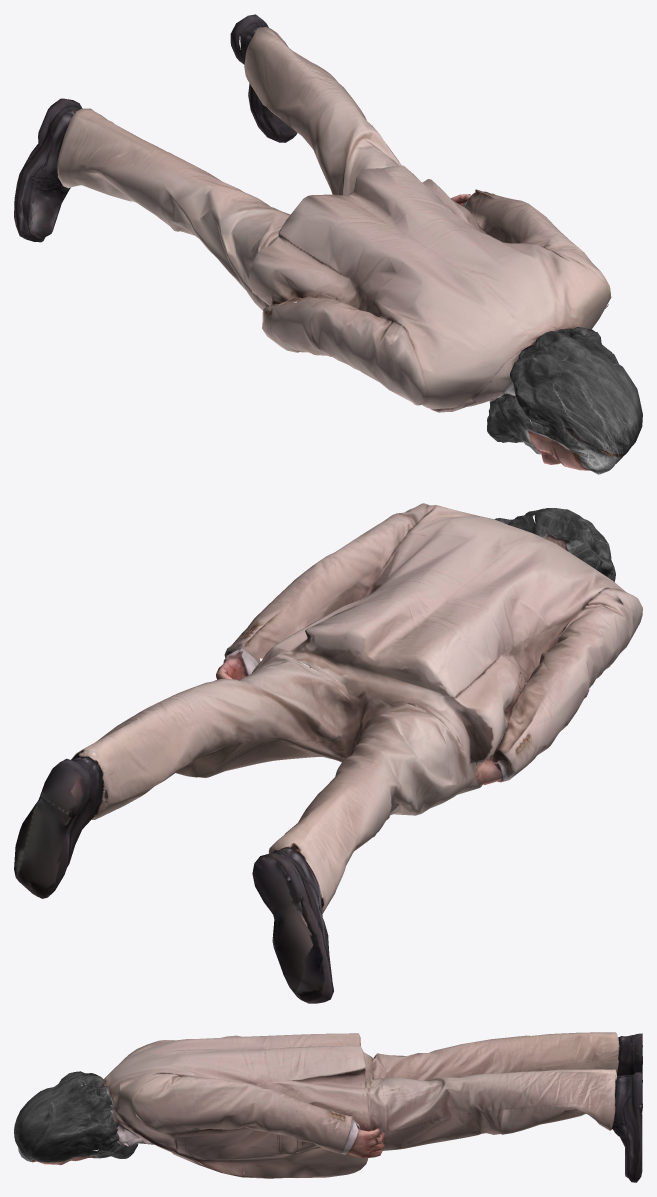
File: laoren1.glb
3 views of the same model, one above another, from view 1: azimuth 30°, elevation 25°; view 2: azimuth 150°, elevation 25°; view 3: azimuth 270°, elevation 25° (orthographic). The views are drawn at different scales.
Parts seen in each view (by area): view 1: laoren1; view 2: laoren1; view 3: laoren1.
Part boxes in pixels (box(x1,y1,x2,y2)): laoren1: box(14, 14, 642, 474); laoren1: box(14, 503, 642, 1003); laoren1: box(14, 1032, 642, 1182).
Bounding box in the file's own units: 0.7519 × 0.422 × 1.88.
Materials: 1 (1 with a texture image).
